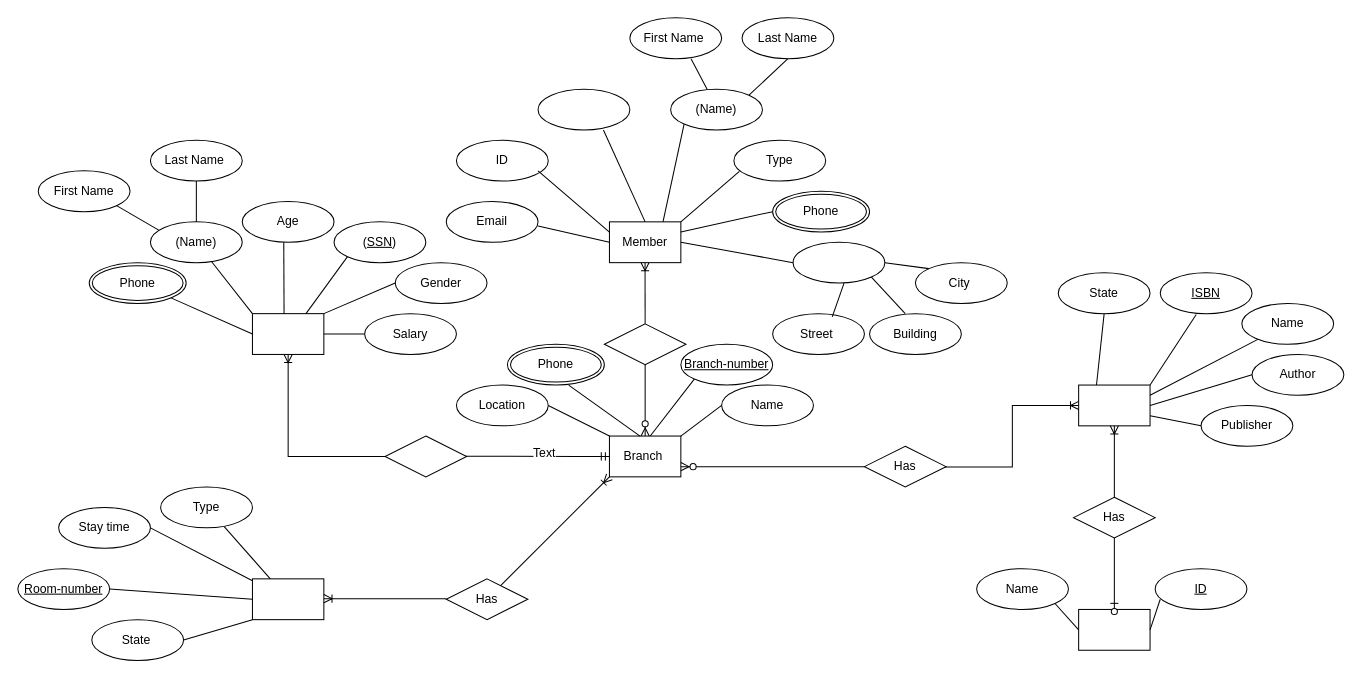
Some shapes in this 1362 by 678 pixel diagram are drawn without their labels. Each missing label, with the centre of its shape:
"(Address)" belongs at (x=838, y=262).
"Book" belongs at (x=1114, y=405).
"Classification" belongs at (x=1114, y=629).
"Data of birth" belongs at (x=583, y=109).
"Room" belongs at (x=287, y=599).
"Staff" belongs at (x=287, y=333).
"visit" belongs at (x=644, y=344).
"Work in" belongs at (x=425, y=456).
